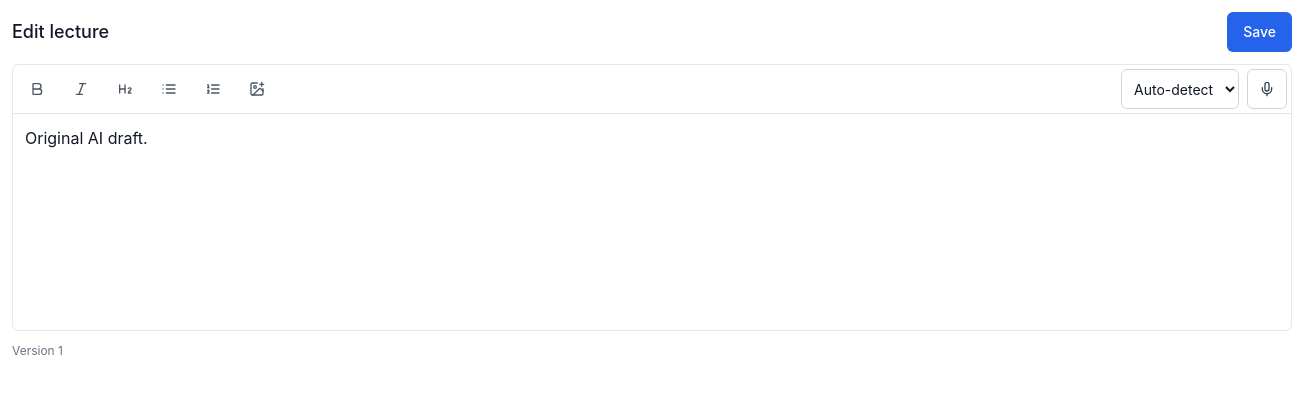
Scenario: LectureEditorPanel › shows an inline error when save fails
Expected: the text box "Original AI draft." is shown, [25, 128, 148, 148]
Click the button "Save" at (1260, 32), box [1227, 12, 1292, 52]
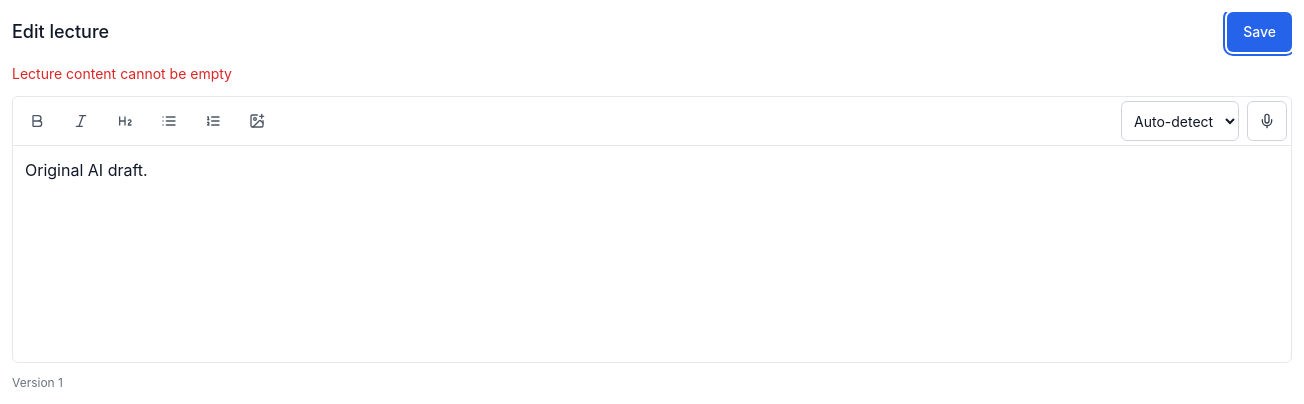
Now the text "Lecture content cannot be empty" is shown, box [12, 65, 232, 82]
